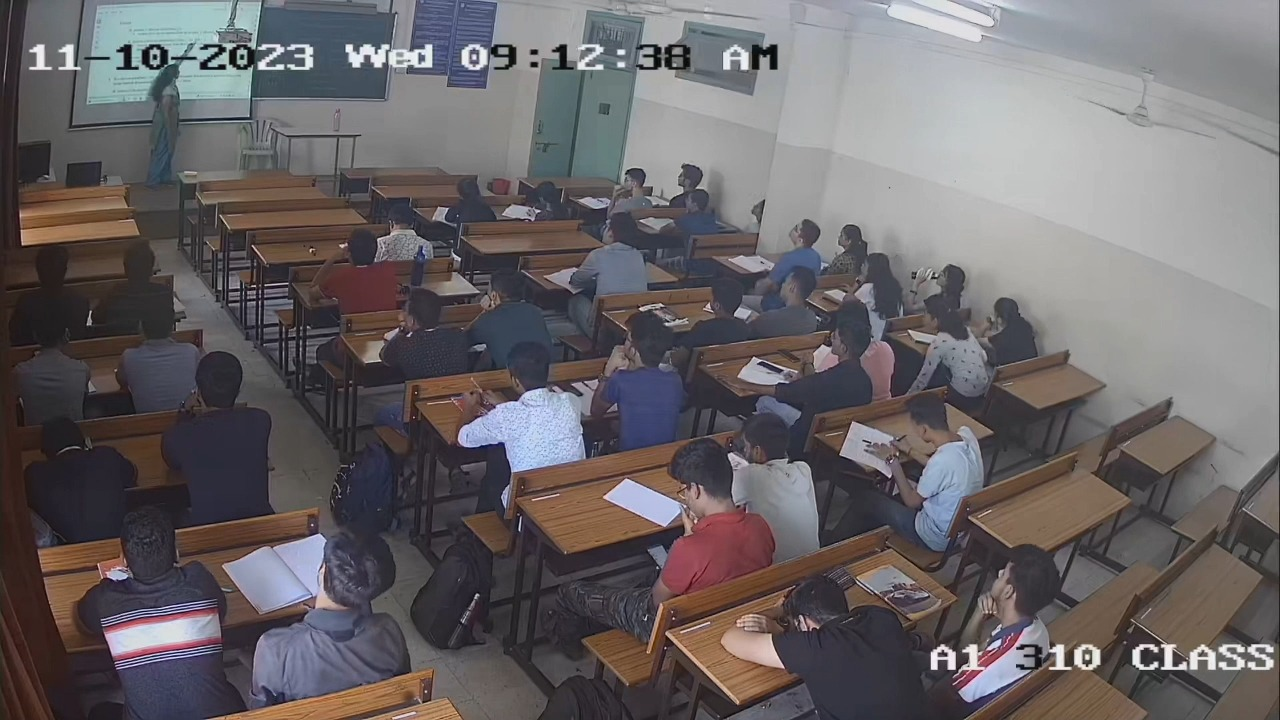cell-phones: (644, 542, 668, 569), (553, 378, 587, 396), (756, 361, 787, 376), (496, 385, 520, 403)
person: (643, 442, 769, 594), (466, 345, 579, 466), (593, 315, 686, 445), (797, 315, 870, 413)
